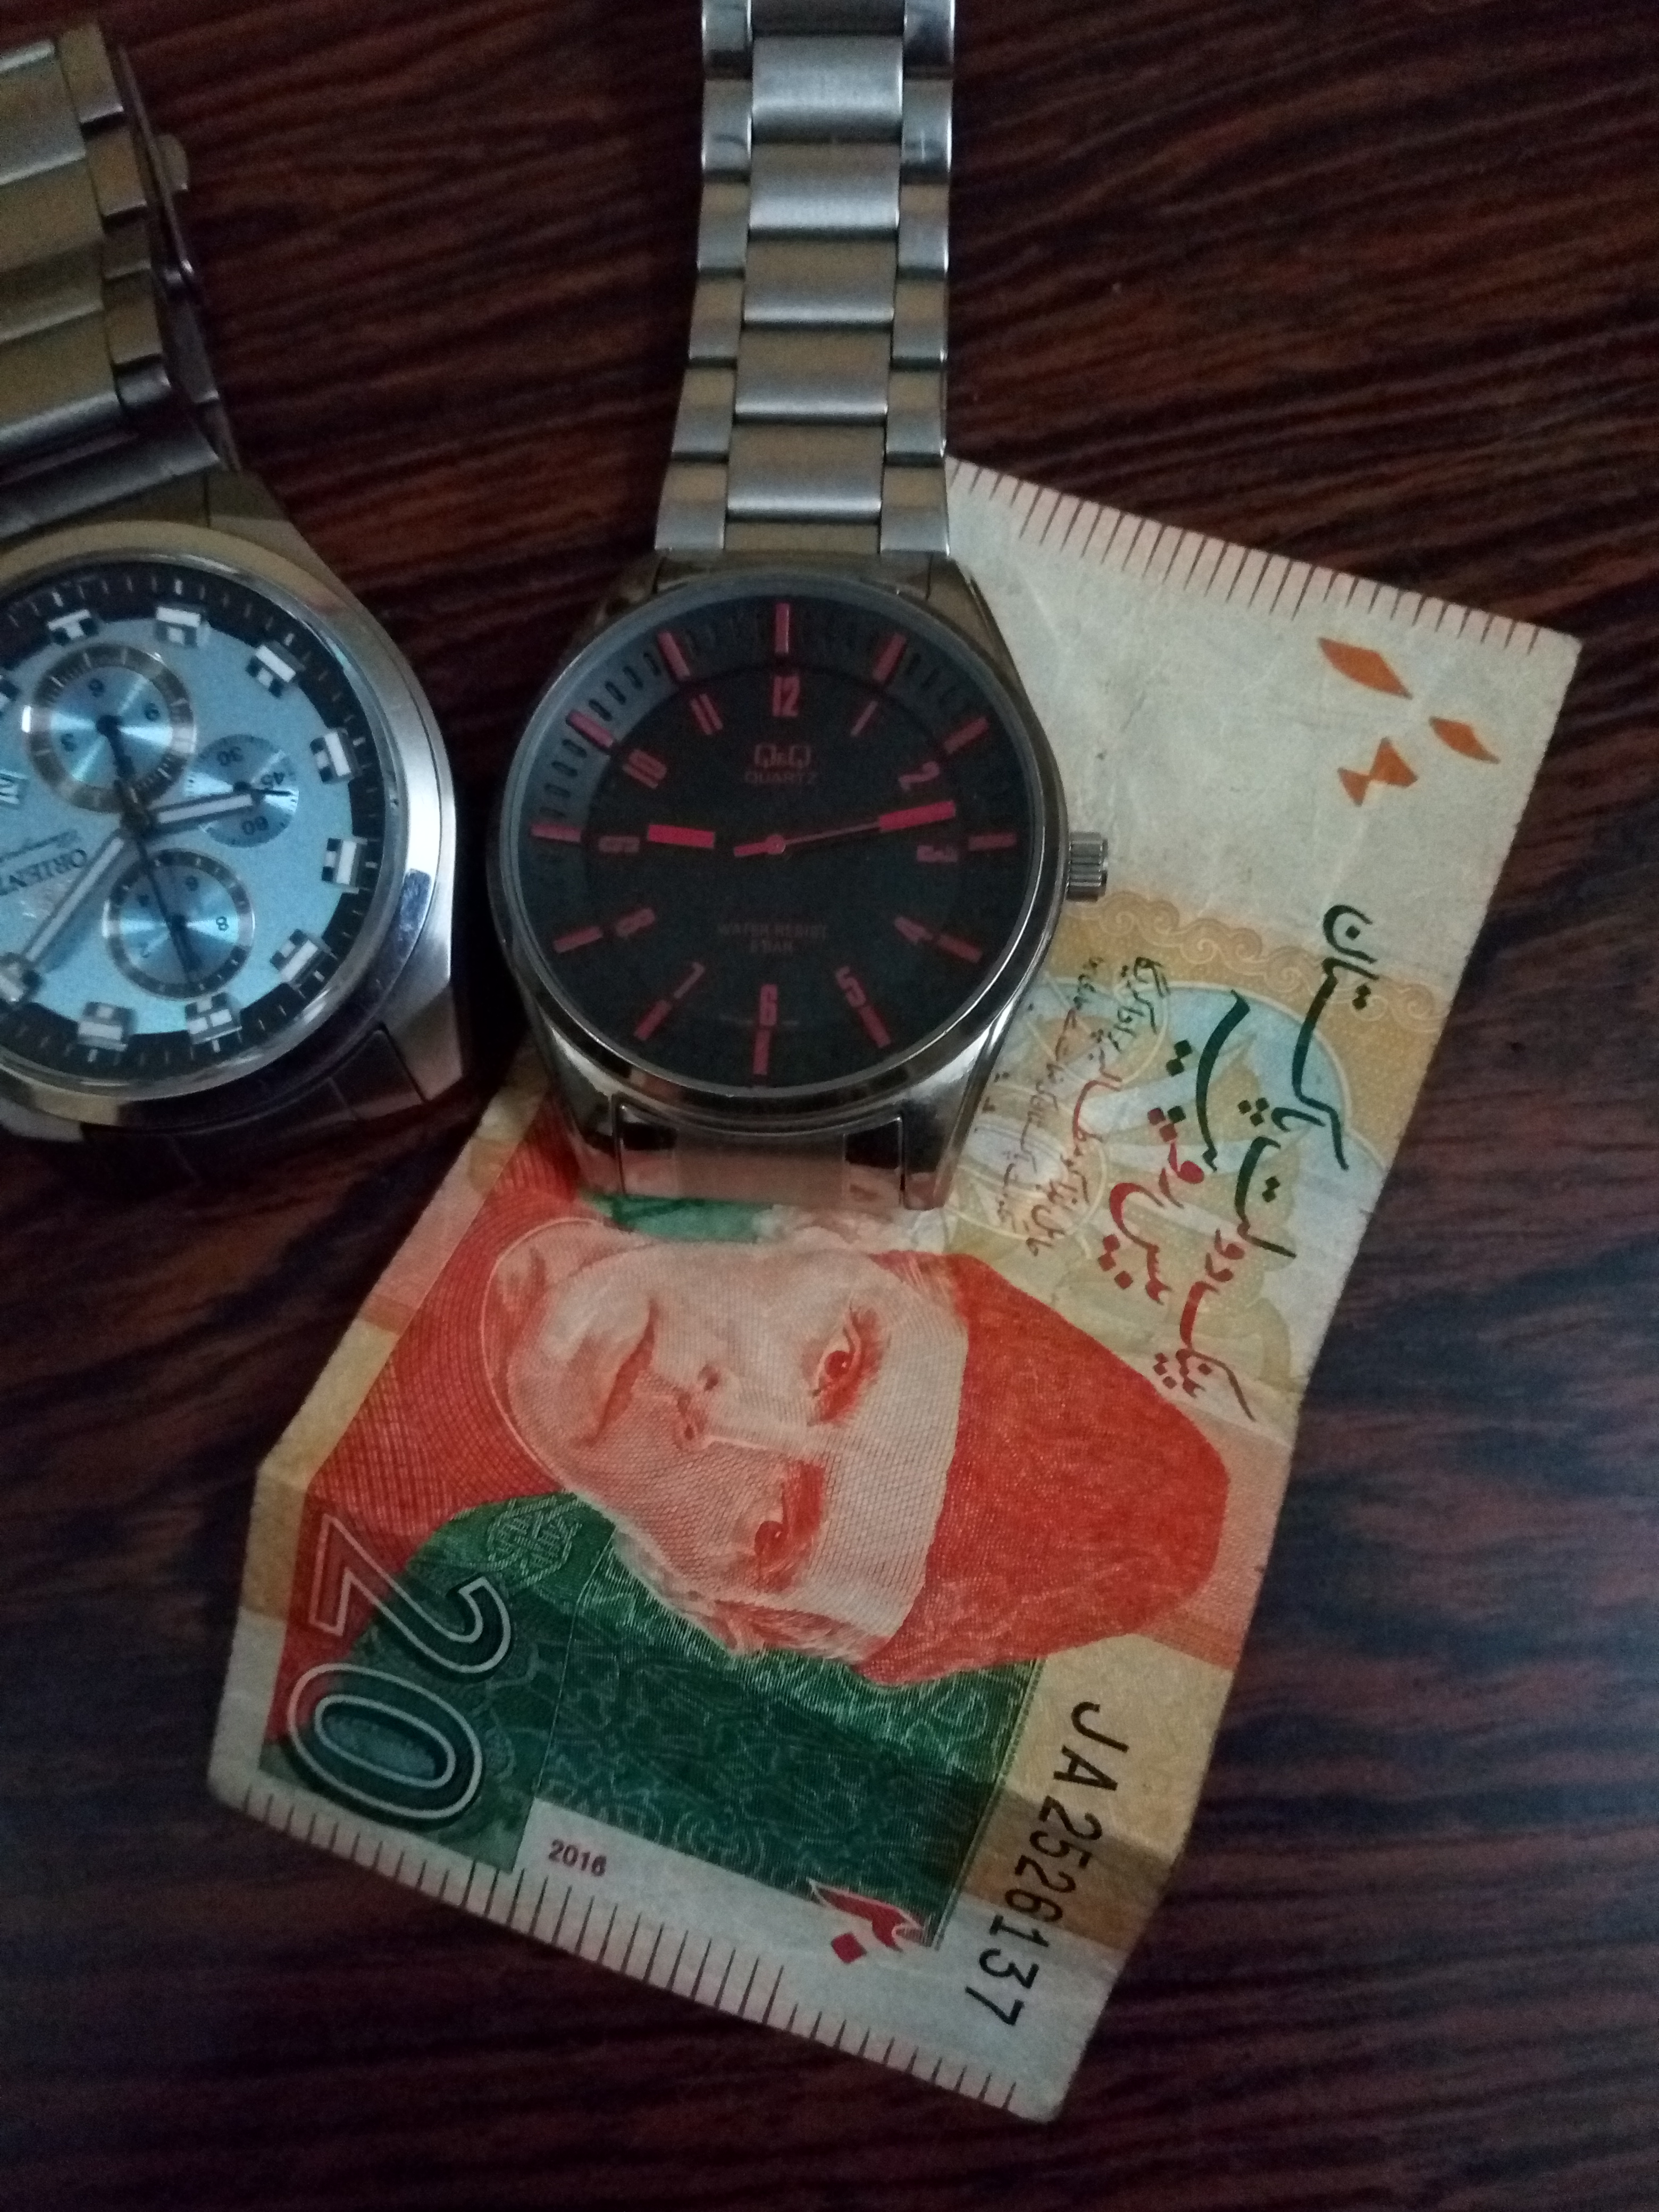20 rupee: (129, 428, 1601, 2156)
